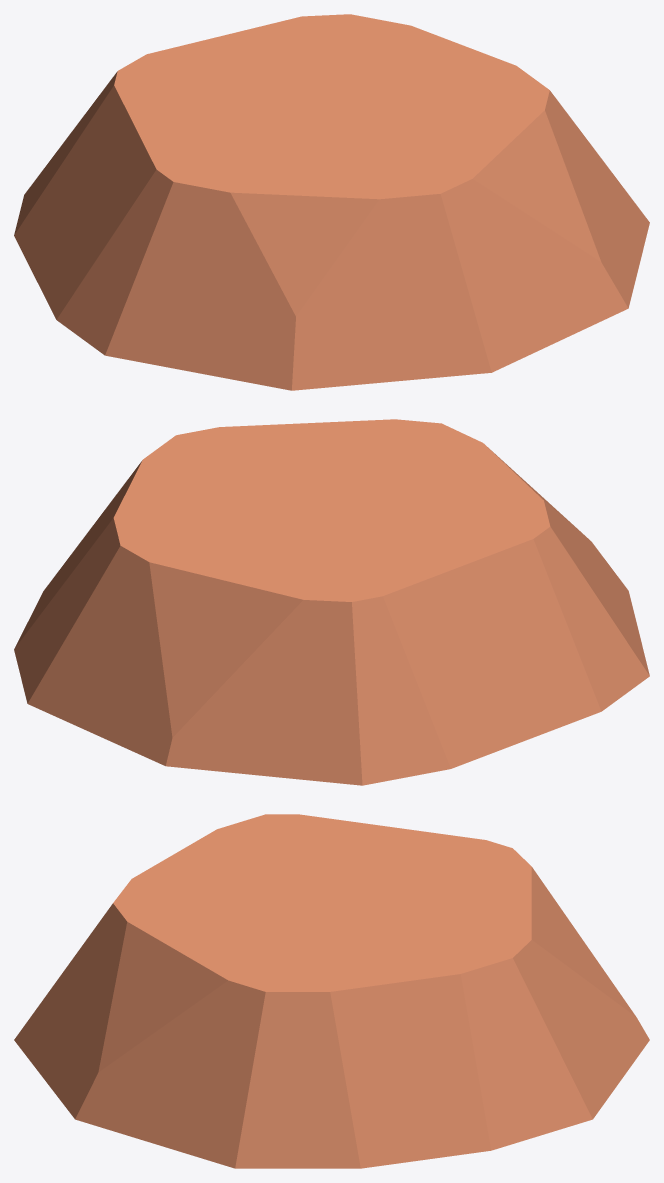
The model's file is Rock012.fbx.
3 views of the same model, one above another, from view 1: azimuth 30°, elevation 25°; view 2: azimuth 150°, elevation 25°; view 3: azimuth 270°, elevation 25° (orthographic). The views are drawn at different scales.
Visible parts, largest first — view 1: Rock012; view 2: Rock012; view 3: Rock012.
Boxes of the visible parts, bbox=[...] form: Rock012: bbox=[14, 14, 649, 390]; Rock012: bbox=[14, 419, 649, 785]; Rock012: bbox=[14, 814, 649, 1168].
Size of the model in its own units: 101 by 25.06 by 105.
